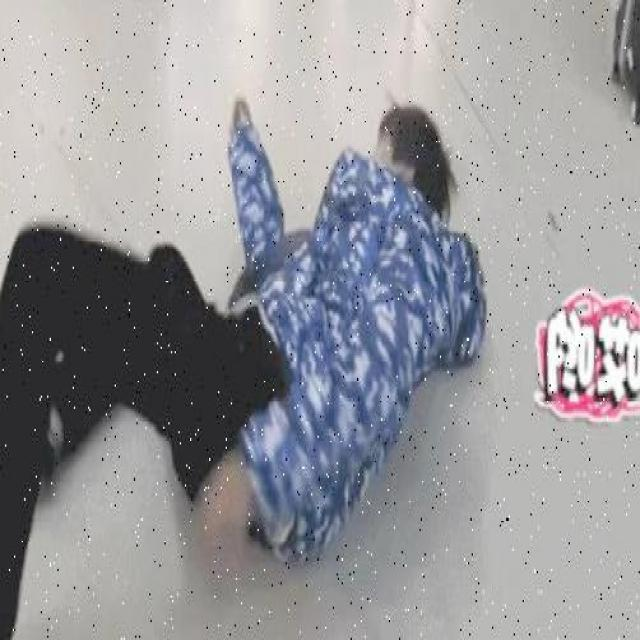fall: (28, 122, 472, 518)
